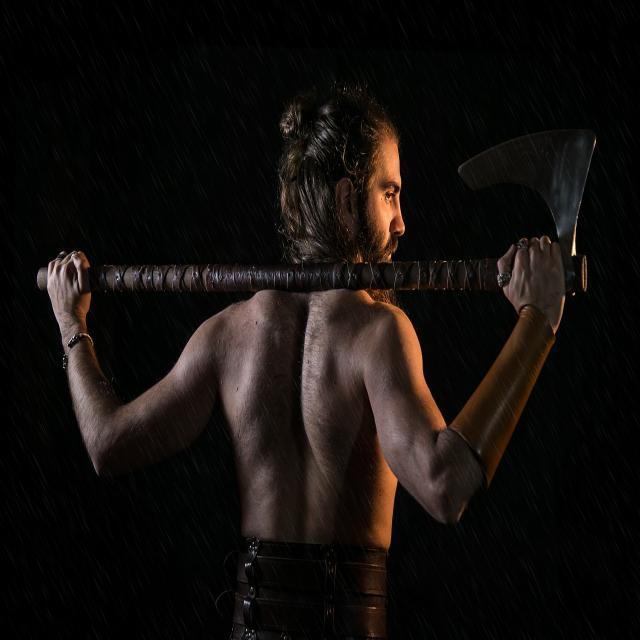Axe: (459, 130, 596, 293), (90, 259, 500, 292)
